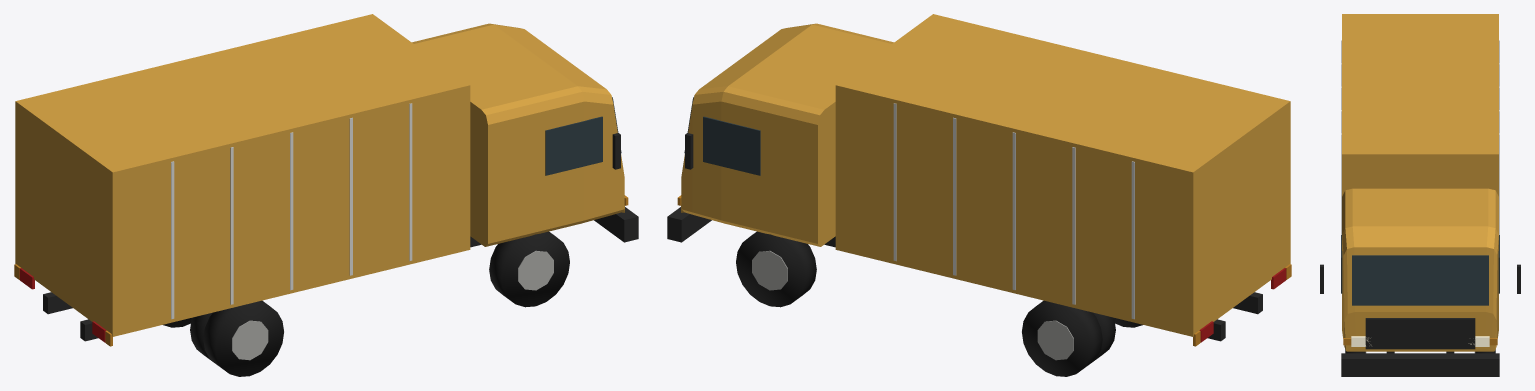
Rendered from jakupica.glb.
3 renders of one model, left to right at view 1: azimuth 30°, elevation 25°; view 2: azimuth 150°, elevation 25°; view 3: azimuth 270°, elevation 25°, orthographic. The views are drawn at different scales.
Parts seen in each view (by area): view 1: Cargo, Body, Tire_RR, Tire_FR, Glass_Side_-1, Hub_RR, Hub_FR, Bumper_F, Rib_4, Rib_5, Rib_2, Rib_3 (+2 smaller); view 2: Cargo, Body, Tire_RL, Tire_FL, Glass_Side_1, Hub_RL, Hub_FL, Bumper_F, Rib_4, Rib_5, Rib_2, Rib_3 (+2 smaller); view 3: Cargo, Body, Glass_Front, Bumper_F, Grille, Rib_5, Lamp_Head_R.
Boxes of the visible parts, box(x1,y1,x2,y2) form: Cargo: box(15, 14, 470, 336); Body: box(412, 23, 624, 246); Tire_RR: box(203, 300, 283, 376); Tire_FR: box(489, 231, 569, 307); Glass_Side_-1: box(545, 116, 602, 175); Hub_RR: box(232, 320, 268, 360); Hub_FR: box(518, 250, 553, 290); Bumper_F: box(594, 207, 638, 242); Rib_4: box(349, 117, 352, 275); Rib_5: box(409, 103, 412, 261); Rib_2: box(230, 147, 233, 304); Rib_3: box(290, 132, 293, 290); Cargo: box(835, 14, 1290, 336); Body: box(681, 23, 893, 246); Tire_RL: box(1022, 300, 1102, 376); Tire_FL: box(736, 231, 816, 307); Glass_Side_1: box(703, 116, 760, 175); Hub_RL: box(1037, 320, 1073, 360); Hub_FL: box(752, 250, 787, 290); Bumper_F: box(667, 207, 711, 242); Rib_4: box(953, 117, 956, 275); Rib_5: box(893, 103, 896, 261); Rib_2: box(1072, 147, 1075, 304); Rib_3: box(1012, 132, 1015, 290); Cargo: box(1342, 14, 1498, 196); Body: box(1342, 188, 1498, 351); Glass_Front: box(1352, 255, 1488, 305); Bumper_F: box(1341, 353, 1499, 376); Grille: box(1365, 318, 1475, 349); Rib_5: box(1341, 133, 1499, 234); Lamp_Head_R: box(1351, 336, 1371, 346).
Size of the model in its own units: 7.38 by 3.2 by 3.02.
